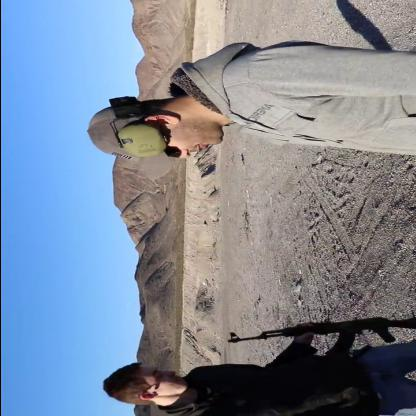long weapon: (215, 304, 415, 352)
